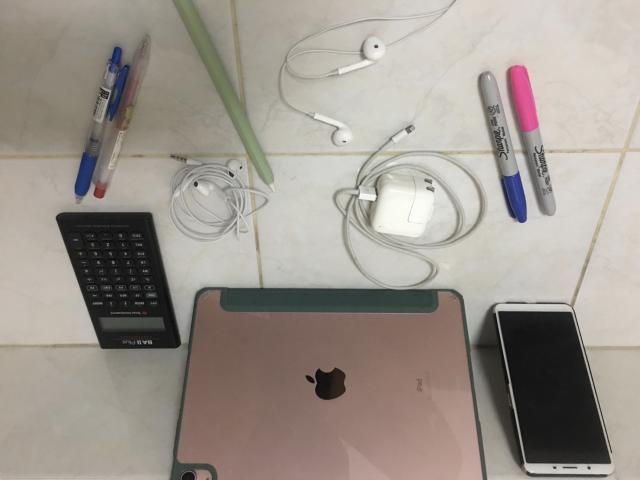Mobile phone: (494, 304, 614, 475)
Pen: (75, 34, 151, 204), (481, 71, 526, 222), (511, 65, 556, 216)
wire: (279, 0, 459, 145), (335, 125, 486, 289), (169, 155, 270, 241)
